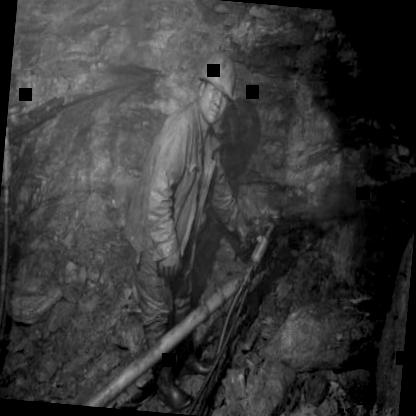helmet: (188, 45, 244, 132)
